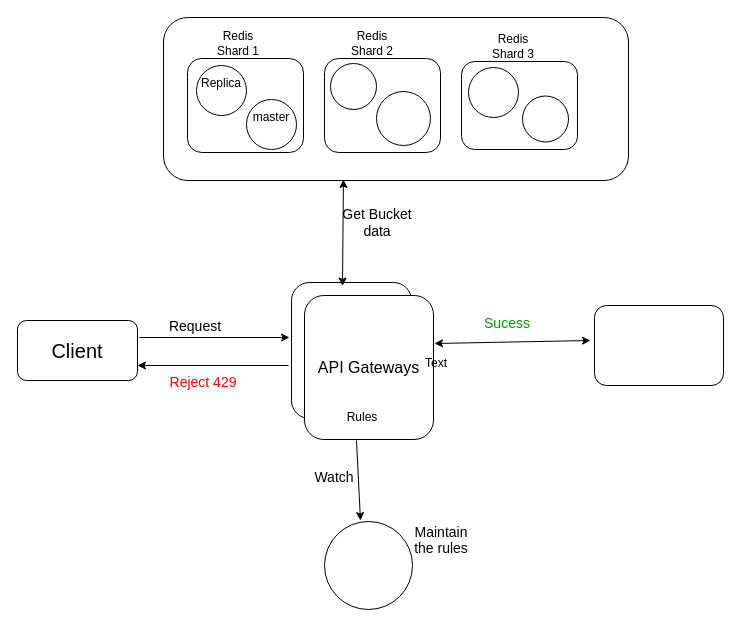
The diagram is 741 pixels wide and 627 high, and some of its shapes have lost their labels. Each missing label, with the centre of its shape:
Server: pixel 659 345
ZooKeeper: pixel 368 565
